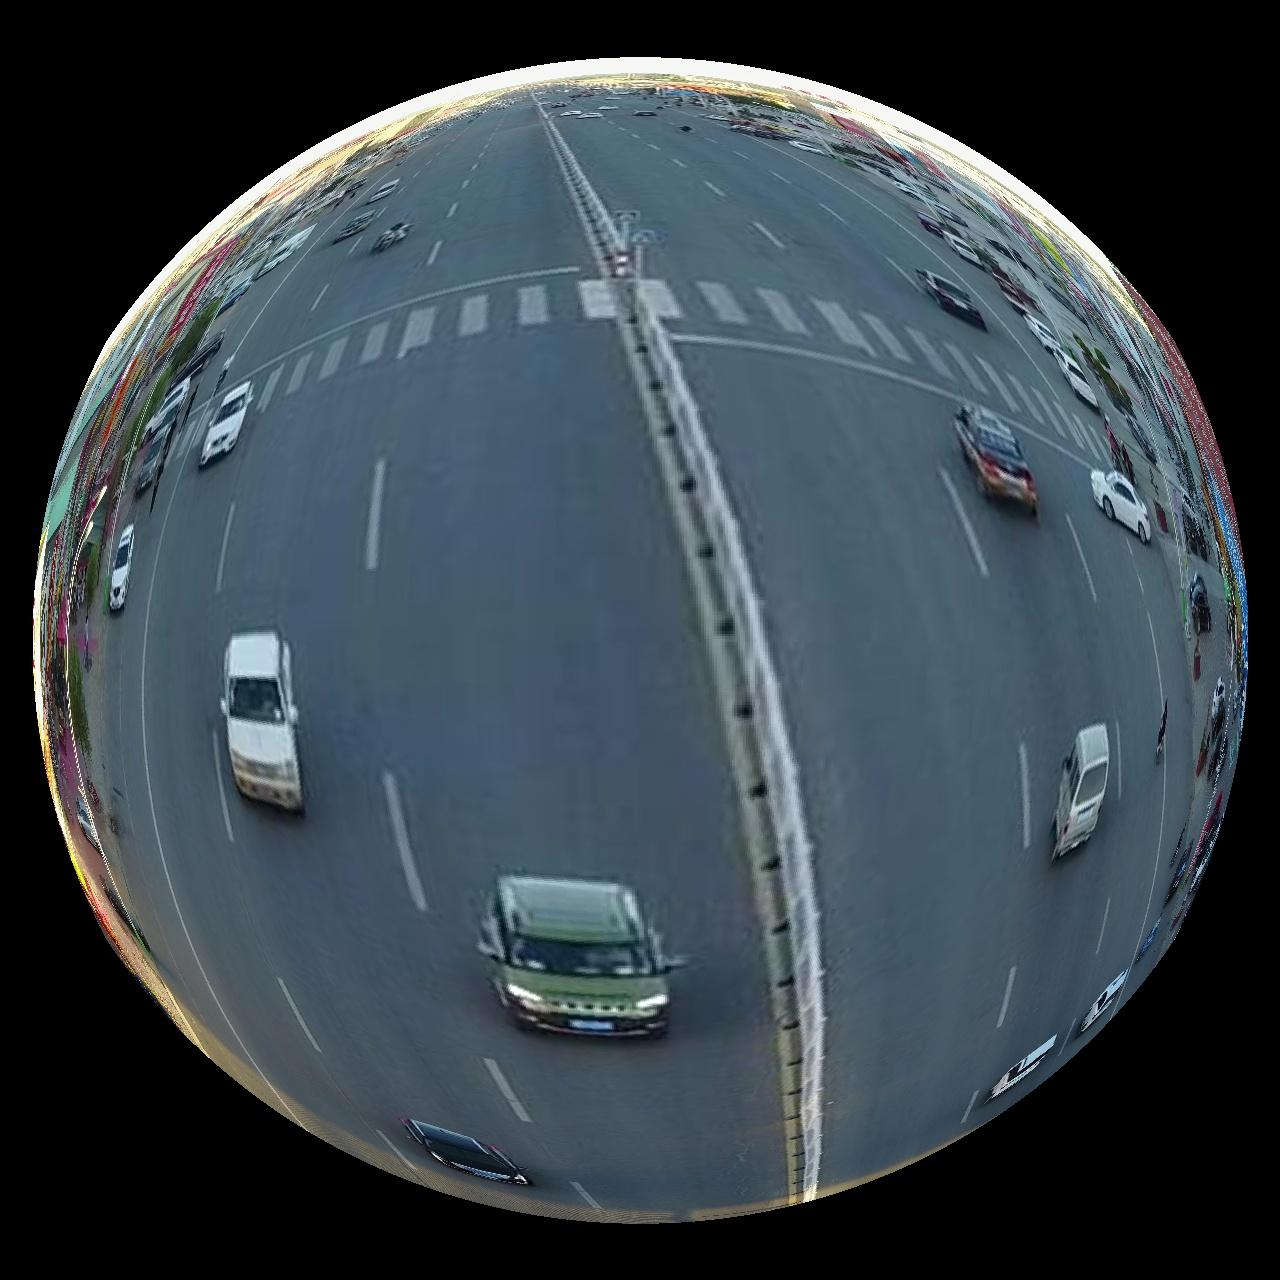cars: (478, 876, 687, 1039), (222, 629, 302, 813), (956, 402, 1040, 518), (399, 1121, 531, 1187), (1055, 724, 1112, 859), (1092, 470, 1155, 544), (198, 381, 252, 465), (990, 1039, 1058, 1103), (918, 268, 988, 328), (1081, 969, 1132, 1035), (107, 524, 132, 612)
